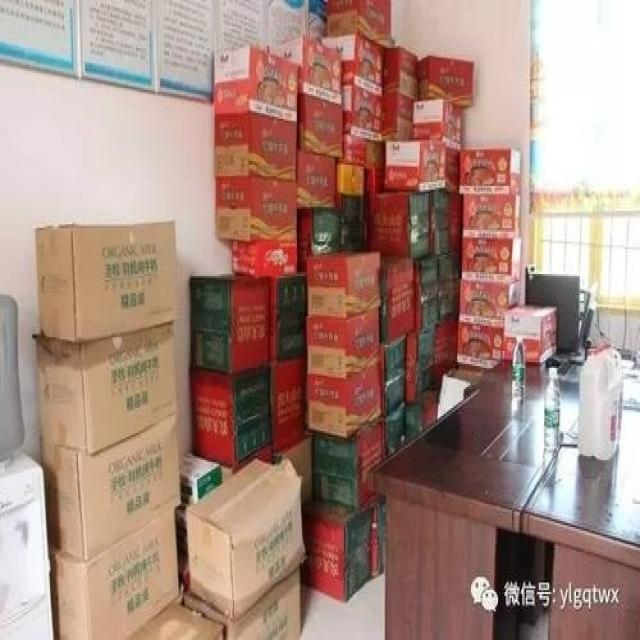box: (40, 414, 181, 560), (31, 322, 178, 454), (187, 459, 304, 619), (35, 221, 176, 343), (50, 508, 179, 638), (184, 561, 302, 638), (303, 495, 385, 601), (190, 364, 272, 467), (189, 275, 269, 375), (307, 352, 383, 440), (313, 418, 386, 508), (215, 46, 299, 122), (214, 112, 297, 181), (216, 178, 298, 243), (269, 34, 342, 105), (306, 307, 380, 377), (307, 250, 381, 317), (366, 192, 430, 263), (298, 209, 366, 274), (271, 357, 313, 453), (322, 34, 384, 96), (128, 601, 225, 638), (269, 275, 308, 364), (385, 140, 446, 193), (503, 304, 557, 363), (459, 280, 525, 327), (378, 260, 414, 344), (327, 0, 390, 47), (418, 56, 473, 109), (462, 235, 521, 284), (298, 93, 342, 158), (460, 150, 521, 195), (464, 194, 522, 239), (412, 101, 462, 151), (180, 452, 223, 506), (296, 151, 336, 209), (232, 241, 298, 276), (407, 324, 436, 402), (342, 86, 383, 141), (380, 333, 407, 416), (282, 436, 313, 508), (412, 254, 439, 333), (457, 323, 503, 368), (384, 45, 419, 100), (436, 318, 458, 402), (405, 390, 438, 442), (335, 163, 364, 221), (438, 252, 461, 323), (383, 92, 413, 141), (430, 192, 451, 256), (384, 403, 407, 456), (336, 136, 367, 166), (450, 193, 464, 252), (446, 146, 460, 195), (365, 140, 384, 168), (364, 169, 384, 194)
